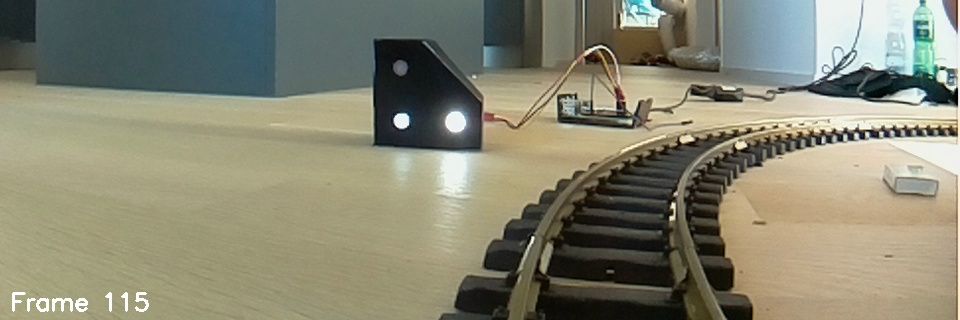Halt: (369, 35, 488, 155)
